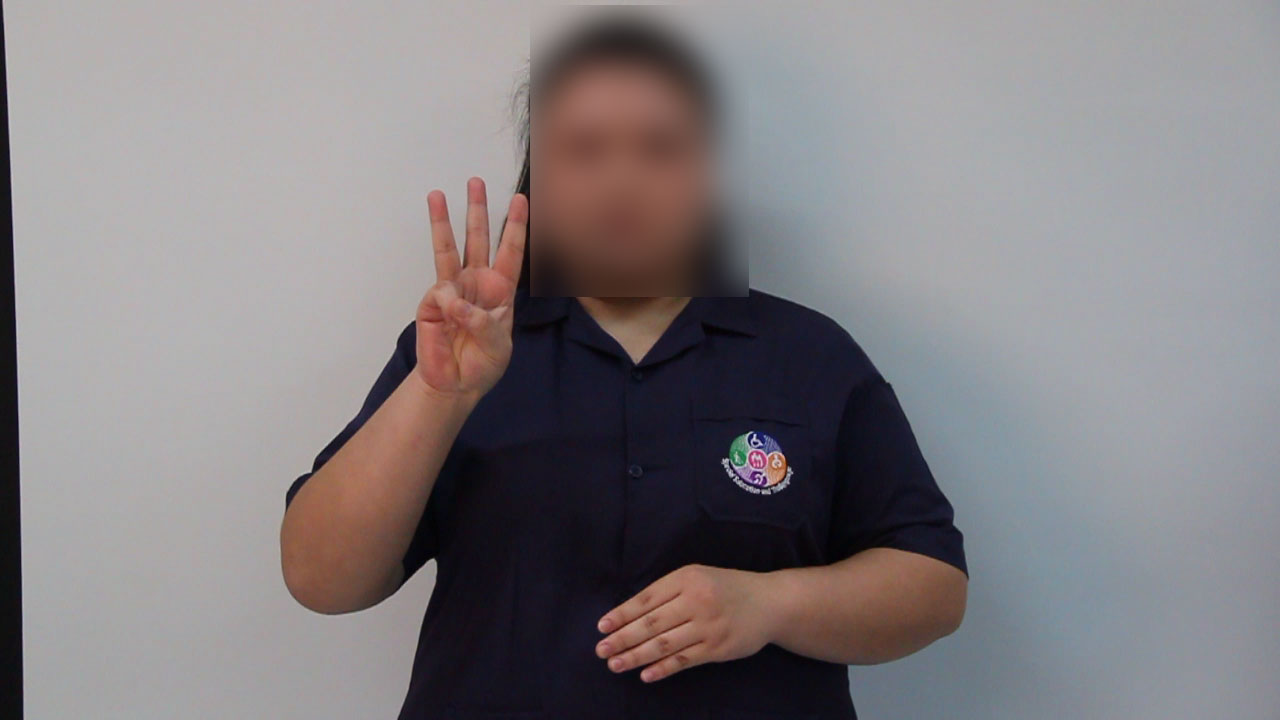wor: (406, 168, 530, 404)
